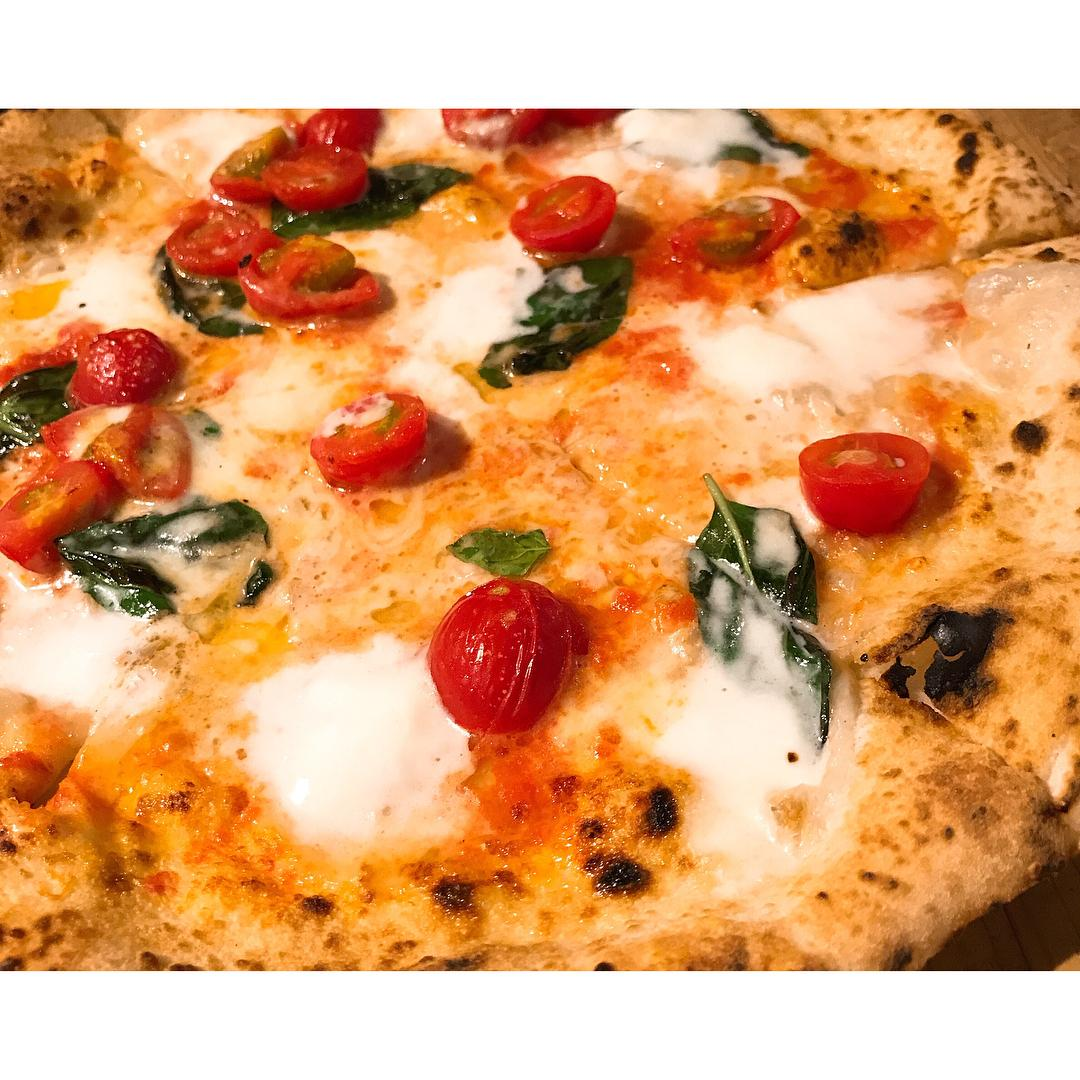Basil: (685, 500, 835, 750), (55, 509, 271, 610), (484, 253, 634, 389), (272, 176, 473, 236), (154, 247, 264, 337), (0, 358, 80, 446), (449, 524, 556, 577)
Cheese: (266, 670, 448, 823), (709, 283, 921, 376), (681, 698, 803, 858), (0, 621, 139, 698), (413, 256, 513, 346), (632, 109, 739, 167), (73, 264, 150, 315)
Pizza: (0, 109, 1080, 971)
Tomatoes: (424, 577, 574, 738), (209, 112, 390, 198), (793, 425, 930, 537), (0, 459, 117, 575), (81, 406, 199, 509), (239, 239, 387, 318), (314, 390, 429, 491), (664, 192, 799, 268), (503, 172, 617, 253), (77, 327, 189, 406), (166, 197, 266, 273), (440, 109, 546, 146)
